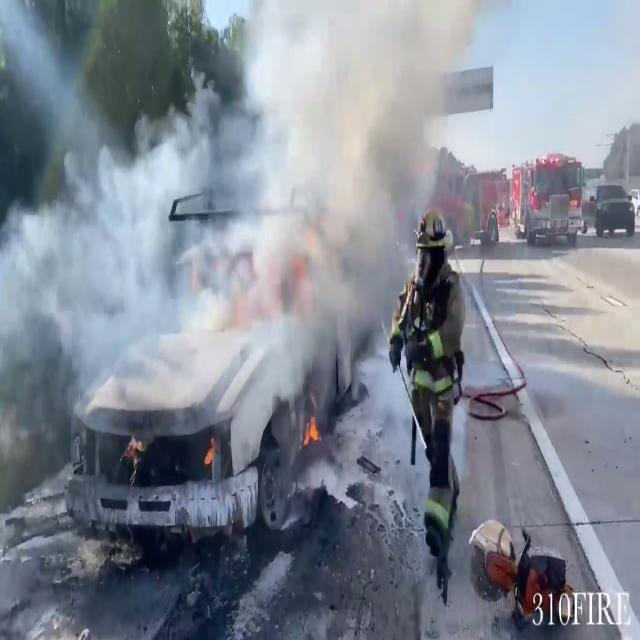Smoke: (0, 0, 454, 456)
